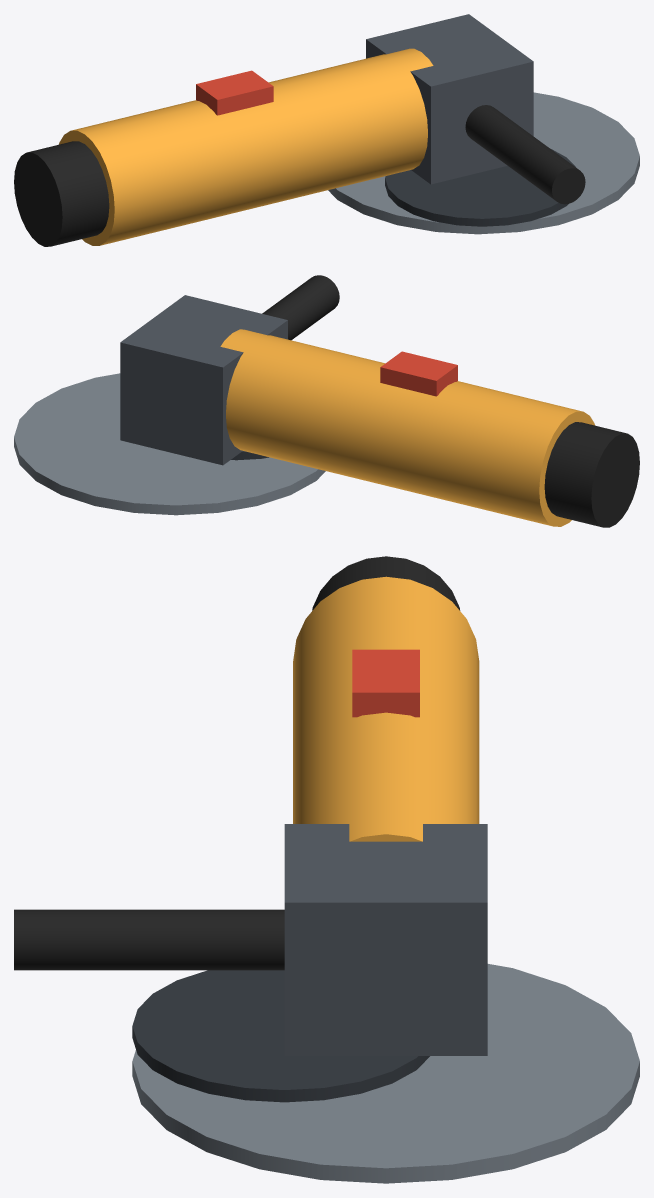
File: eng-angle-grinder.glb
3 renders of one model, top to bottom at view 1: azimuth 30°, elevation 25°; view 2: azimuth 150°, elevation 25°; view 3: azimuth 270°, elevation 25°, orthographic. The views are drawn at different scales.
Visible parts, largest first — view 1: motor-body, gear-head, cutting-disc, end-cap, guard, side-handle, switch; view 2: motor-body, cutting-disc, gear-head, end-cap, side-handle, switch; view 3: cutting-disc, gear-head, motor-body, guard, side-handle, switch, end-cap.
Boxes of the visible parts, bbox=[...] form: motor-body: bbox=[59, 48, 433, 245]; gear-head: bbox=[366, 14, 533, 184]; cutting-disc: bbox=[328, 92, 639, 234]; end-cap: bbox=[14, 141, 109, 246]; guard: bbox=[385, 148, 575, 226]; side-handle: bbox=[465, 105, 585, 204]; switch: bbox=[196, 70, 273, 115]; motor-body: bbox=[220, 329, 594, 526]; cutting-disc: bbox=[14, 373, 325, 515]; gear-head: bbox=[120, 295, 287, 465]; end-cap: bbox=[544, 422, 639, 527]; side-handle: bbox=[262, 275, 339, 340]; switch: bbox=[380, 351, 457, 396]; cutting-disc: bbox=[132, 964, 639, 1183]; gear-head: bbox=[284, 824, 487, 1055]; motor-body: bbox=[293, 576, 479, 841]; guard: bbox=[132, 970, 429, 1102]; side-handle: bbox=[14, 909, 284, 970]; switch: bbox=[352, 649, 419, 717]; end-cap: bbox=[312, 556, 460, 610].
Bounding box in the file's own units: 3.1 × 0.715 × 1.85.
